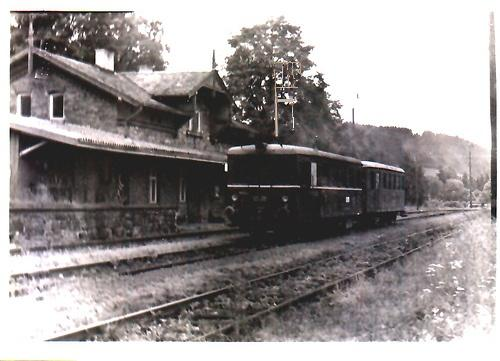tampered: (275, 63, 302, 137)
